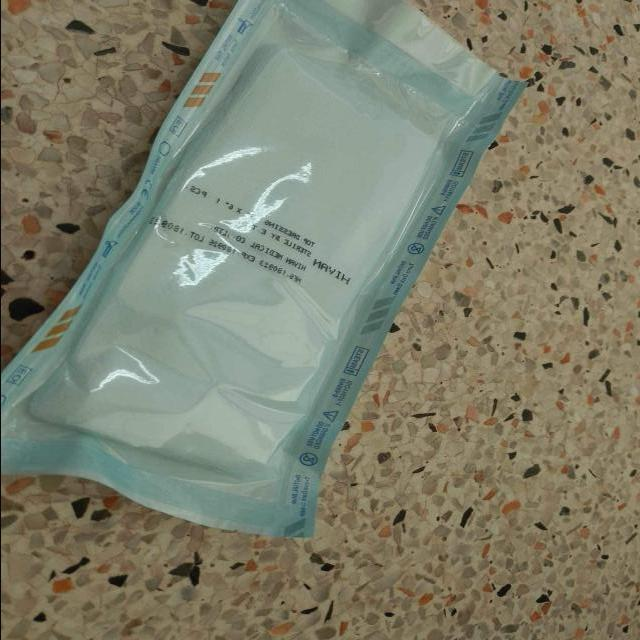Infectious: (2, 1, 528, 540)
